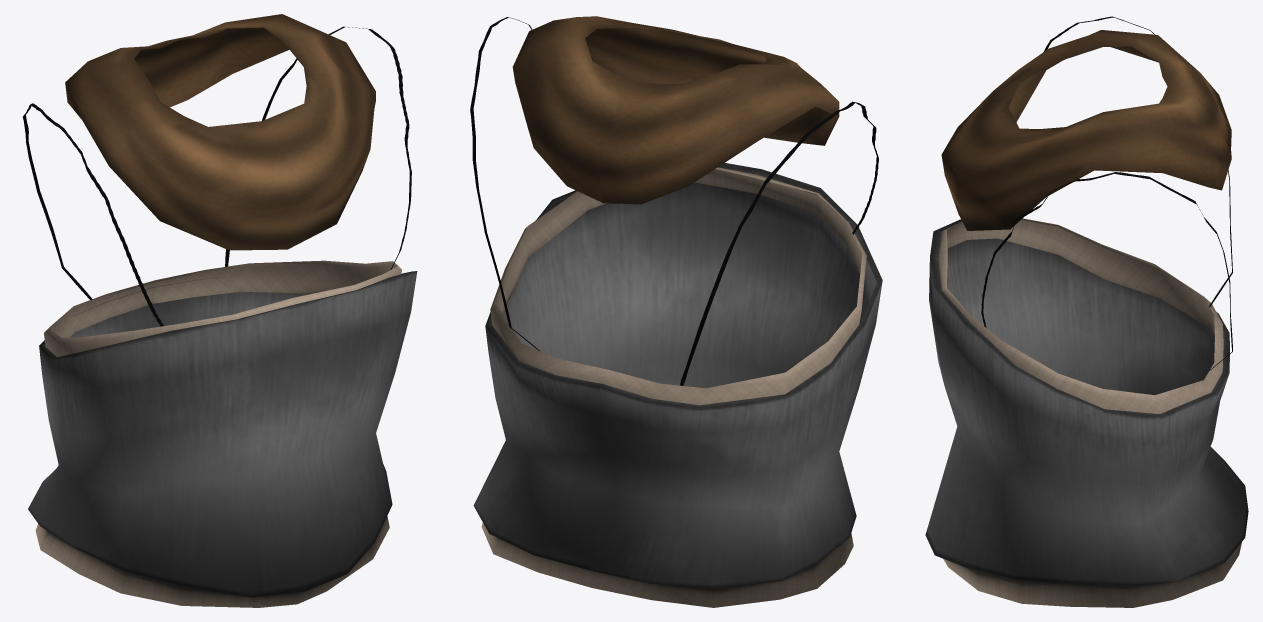
The model's file is LAS_1_Chestpiece.obj.
The picture shows the model from 3 angles, left to right: view 1: azimuth 30°, elevation 25°; view 2: azimuth 150°, elevation 25°; view 3: azimuth 270°, elevation 25°; orthographic projection. The views are drawn at different scales.
Visible parts, largest first — view 1: Knight.013_proxy741.obj.009; view 2: Knight.013_proxy741.obj.009; view 3: Knight.013_proxy741.obj.009.
Boxes of the visible parts, x1,y1,x2,y2 form: Knight.013_proxy741.obj.009: (23, 14, 417, 607); Knight.013_proxy741.obj.009: (470, 16, 882, 607); Knight.013_proxy741.obj.009: (925, 16, 1248, 607).
Bounding box in the file's own units: 0.4279 × 0.5596 × 0.3447.
